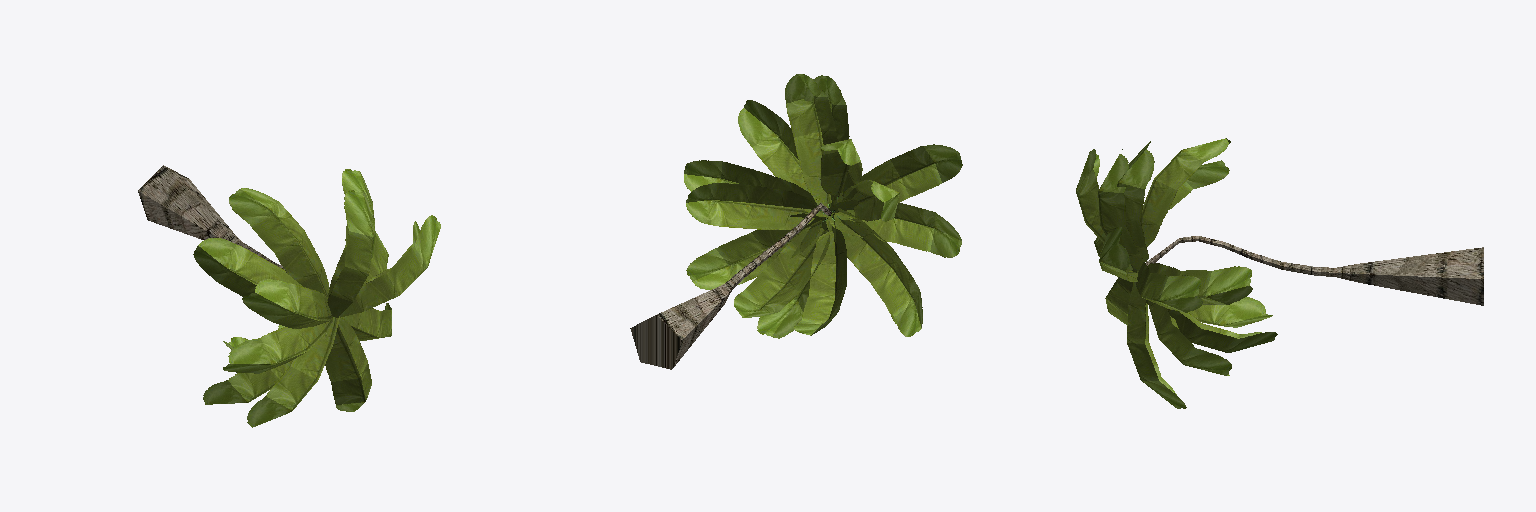
3 renders of one model, left to right at view 1: azimuth 30°, elevation 25°; view 2: azimuth 150°, elevation 25°; view 3: azimuth 270°, elevation 25°, orthographic.
Visible parts, largest first — view 1: l1_3_35, Group17; view 2: l1_3_35, Group17; view 3: l1_3_35, Group17.
Part boxes in pixels (x1,y1,x2,y2): l1_3_35: (193,169,440,427); Group17: (138,165,284,269); l1_3_35: (684,74,962,338); Group17: (630,203,831,369); l1_3_35: (1076,138,1277,408); Group17: (1146,236,1483,305).
Bounding box in the file's own units: 20.55 × 21.47 × 27.33.
Materials: 2 (2 with a texture image).